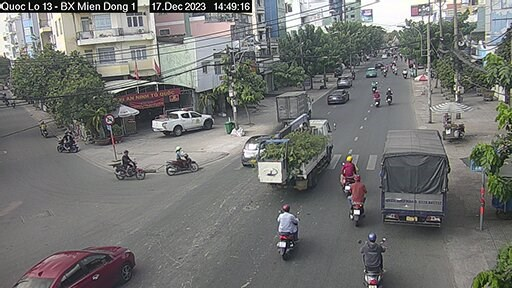car: (19, 250, 146, 287), (229, 127, 274, 172), (148, 109, 210, 139), (327, 90, 354, 108), (333, 72, 358, 90)
motorbike: (257, 201, 306, 253), (163, 142, 208, 182), (108, 149, 154, 188), (356, 234, 385, 281), (346, 175, 369, 218), (342, 159, 369, 191)
truck: (377, 129, 448, 235), (267, 116, 346, 187), (273, 77, 331, 127)
